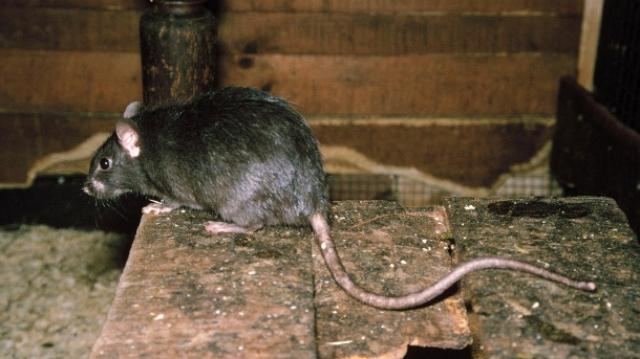rat: (65, 76, 347, 252)
